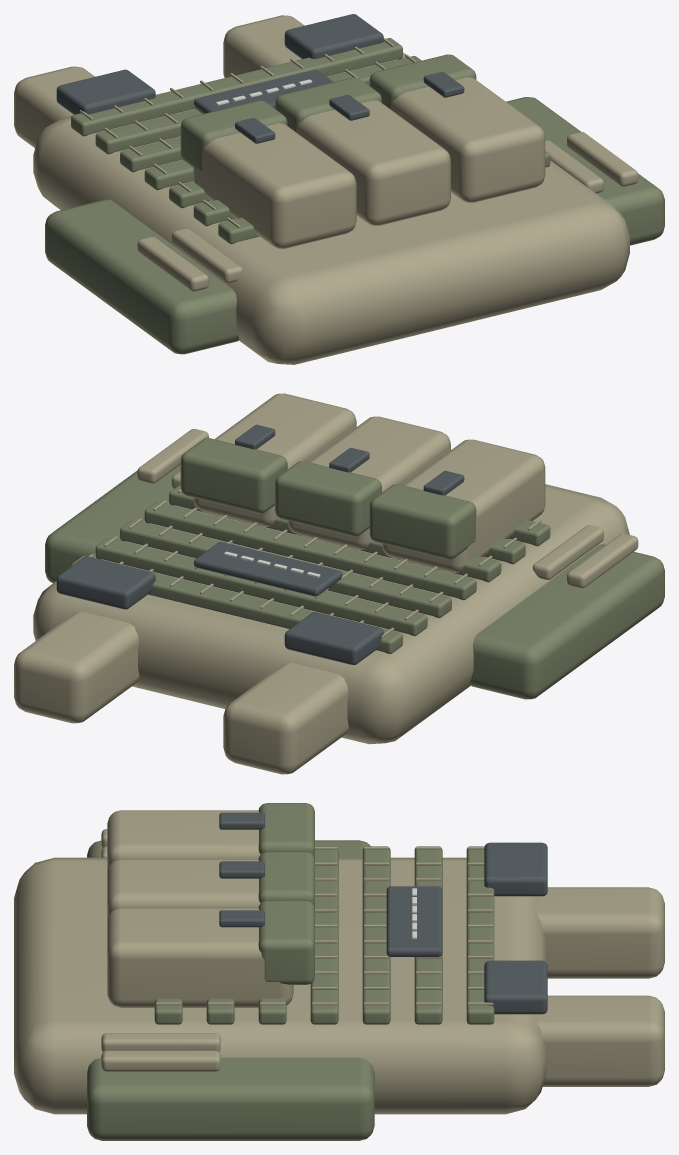
File: armor.glb
3 renders of one model, top to bottom at view 1: azimuth 30°, elevation 25°; view 2: azimuth 150°, elevation 25°; view 3: azimuth 270°, elevation 25°, orthographic. The views are drawn at different scales.
Visible parts, largest first — view 1: Fabric, Webbing, Dark; view 2: Fabric, Webbing, Dark; view 3: Fabric, Webbing, Dark.
Part boxes in pixels (box(x1,y1,x2,y2)): Fabric: box(14, 15, 638, 364); Webbing: box(45, 38, 664, 354); Dark: box(56, 14, 464, 143); Fabric: box(14, 393, 638, 774); Webbing: box(45, 438, 664, 699); Dark: box(56, 424, 464, 664); Fabric: box(14, 810, 664, 1114); Webbing: box(87, 803, 494, 1140); Dark: box(219, 812, 547, 1014).
Bounding box in the file's own units: 0.477 × 0.144 × 0.5135.
